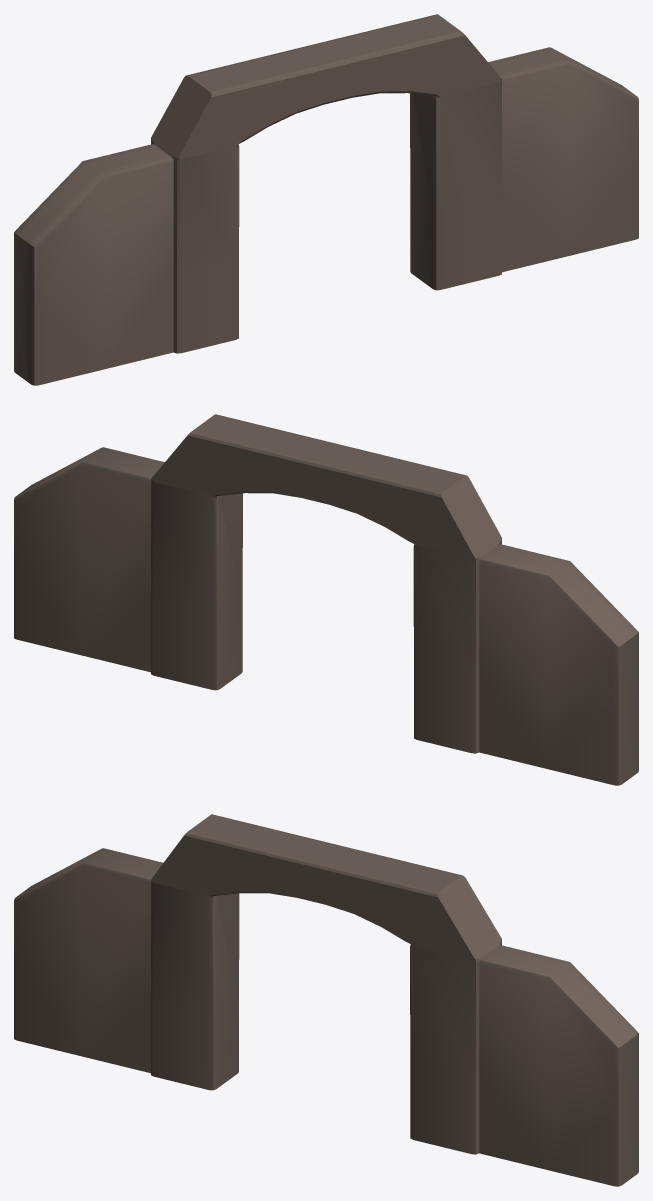
Rendered from Ruins 4.fbx.
The picture shows the model from 3 angles, top to bottom: view 1: azimuth 30°, elevation 25°; view 2: azimuth 150°, elevation 25°; view 3: azimuth 330°, elevation 25°; orthographic projection.
Parts seen in each view (by area): view 1: Ruins 4; view 2: Ruins 4; view 3: Ruins 4.
Part boxes in pixels (left/top/right/bottom): Ruins 4: left=14, top=14, right=638, bottom=385; Ruins 4: left=14, top=414, right=638, bottom=785; Ruins 4: left=14, top=814, right=638, bottom=1186.
Size of the model in its own units: 129 by 50.94 by 10.12.
Materials: 1 (1 with a texture image).
